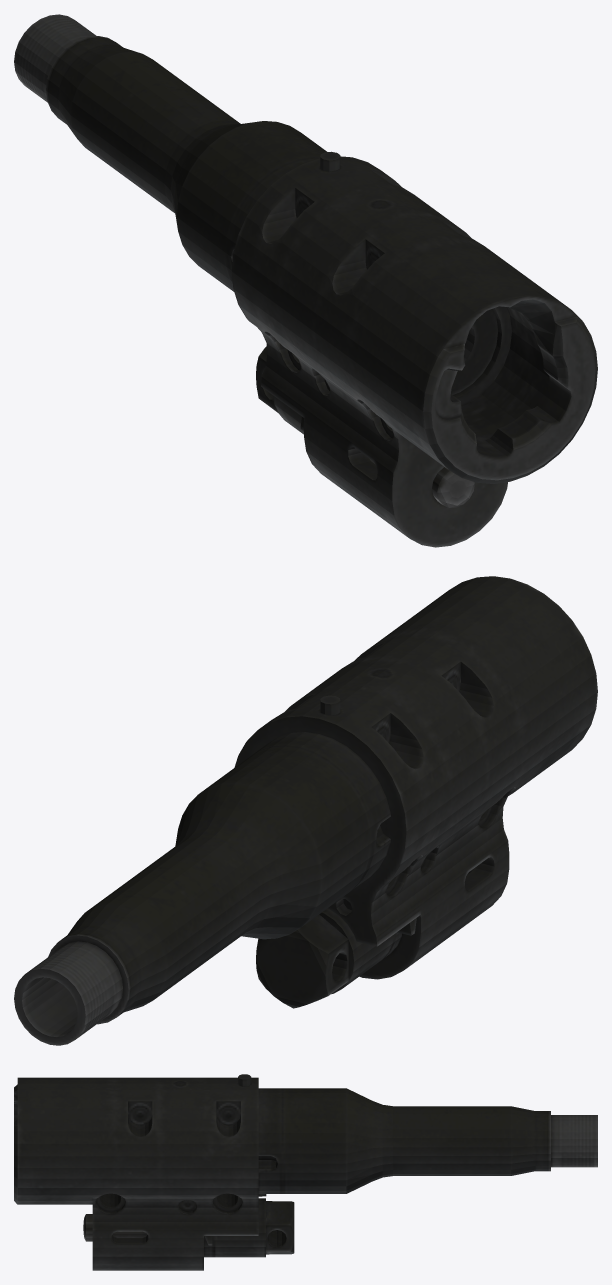
3 views of the same model, one above another, from view 1: azimuth 30°, elevation 25°; view 2: azimuth 150°, elevation 25°; view 3: azimuth 270°, elevation 25° (orthographic). The views are drawn at different scales.
Visible parts, largest first — view 1: TW_5c5db5852e2216003a0fe71a_PZ_Import; view 2: TW_5c5db5852e2216003a0fe71a_PZ_Import; view 3: TW_5c5db5852e2216003a0fe71a_PZ_Import.
Part boxes in pixels (box(x1,y1,x2,y2)): TW_5c5db5852e2216003a0fe71a_PZ_Import: box(14, 14, 597, 547); TW_5c5db5852e2216003a0fe71a_PZ_Import: box(14, 576, 597, 1045); TW_5c5db5852e2216003a0fe71a_PZ_Import: box(14, 1074, 597, 1270).
Bounding box in the file's own units: 0.016 × 0.0732 × 0.0263.
Materials: 1 (1 with a texture image).
